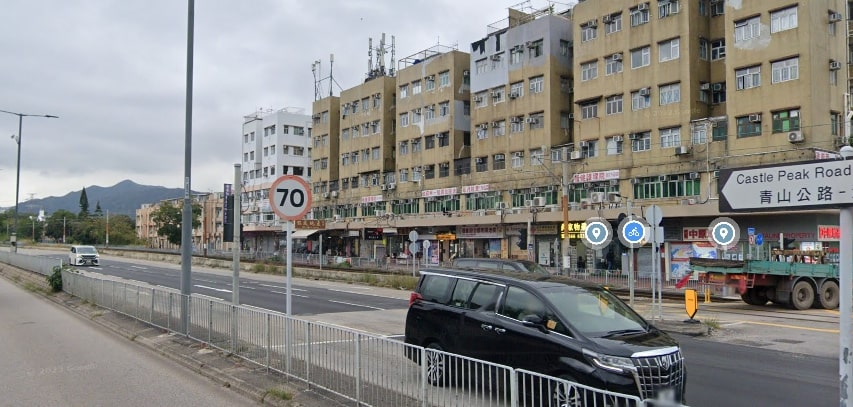Speed Limit: (268, 172, 314, 219)
